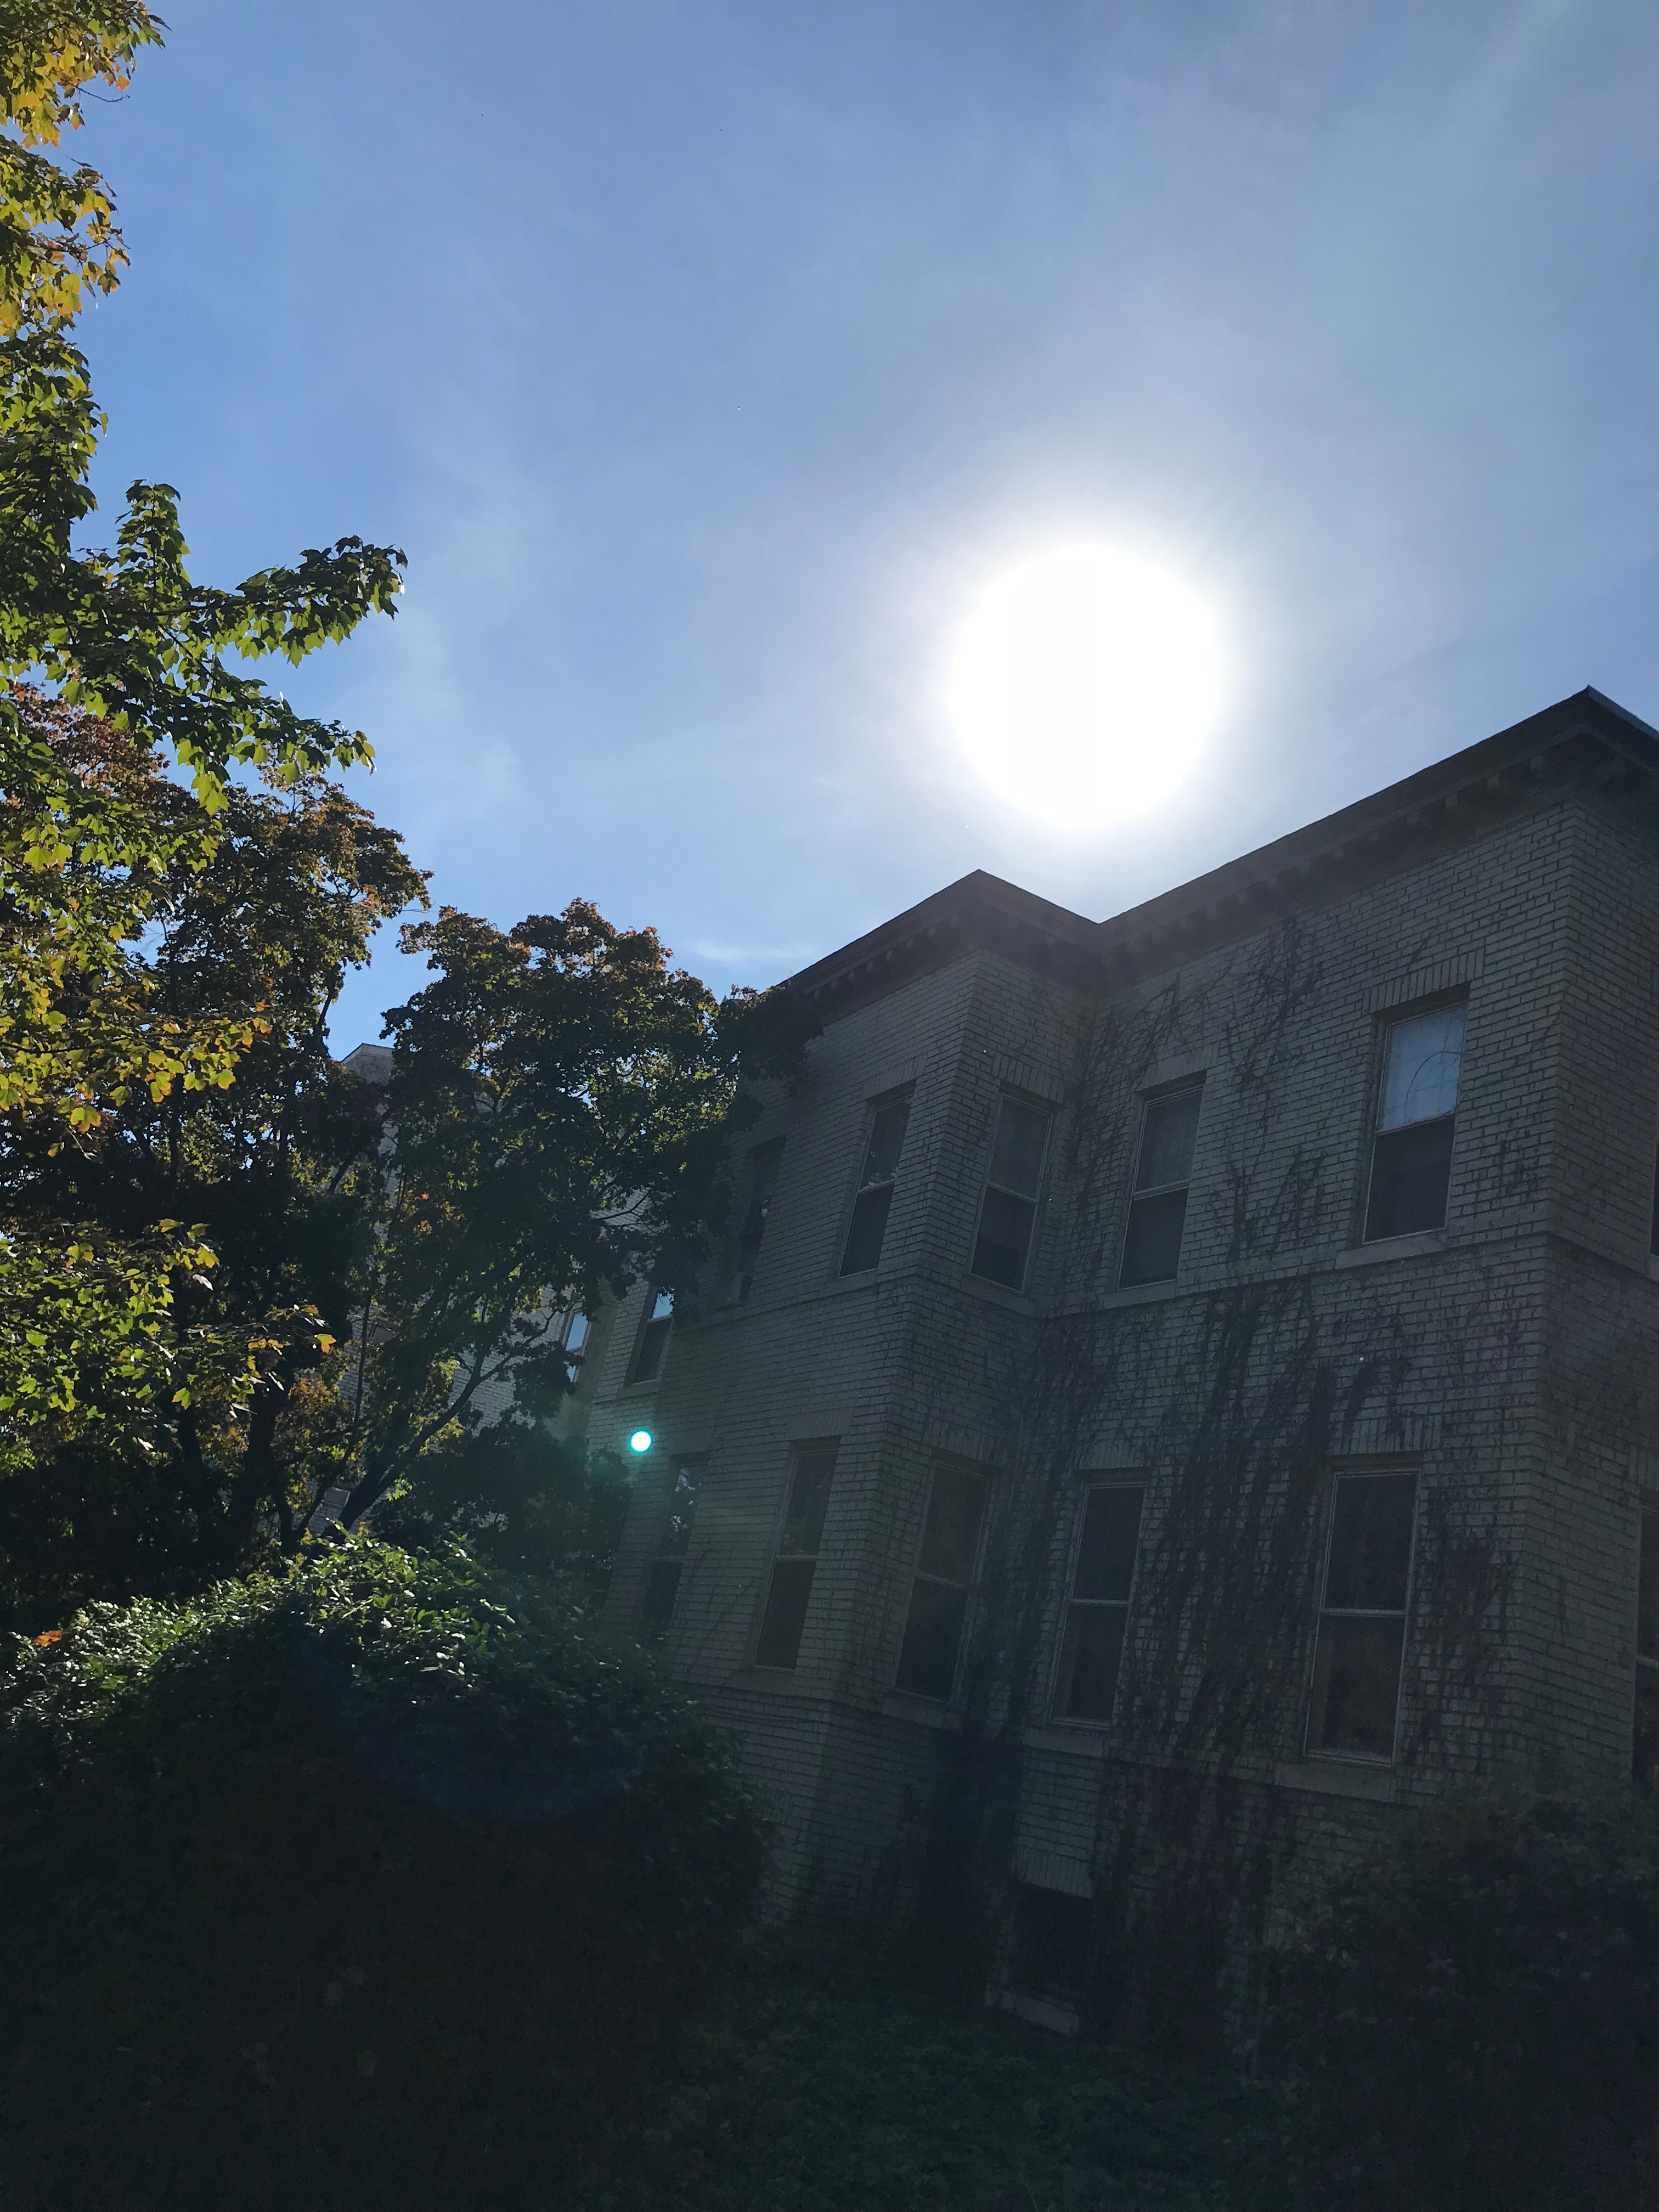flare: (629, 1430, 653, 1454)
